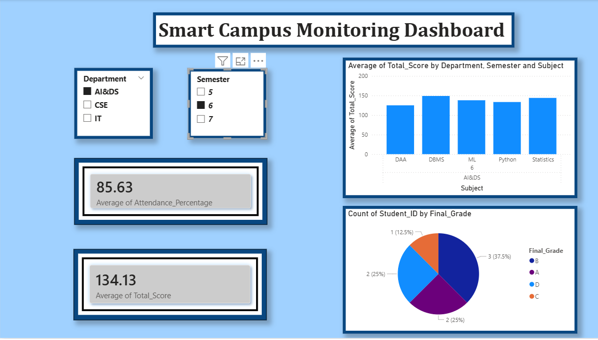

This screenshot's page, from the dashboard's own definition file:
{"tool":"powerbi","page":{"name":"Page 1","canvas":[1280,720],"ordinal":0},"visuals":[{"type":"textbox","box":[325.2,27.4,768.4,75.5],"z":0},{"type":"cardVisual","fields":{"Data":["Avg(5 student_performance.Attendance_Percentage)"]},"box":[157.8,337.6,410.3,141.3],"z":1000},{"type":"cardVisual","fields":{"Data":["Avg(5 student_performance.Total_Score)"]},"box":[156.4,531,410.3,150.9],"z":2000},{"type":"slicer","fields":{"Values":["5 student_performance.Department"]},"box":[157.8,145.5,167.4,150.9],"z":3000},{"type":"slicer","fields":{"Values":["5 student_performance.Semester"]},"box":[399.3,146.8,167.4,149.6],"z":4000},{"type":"clusteredColumnChart","fields":{"Y":["Avg(5 student_performance.Total_Score)"],"Category":["5 student_performance.Department","5 student_performance.Semester","5 student_performance.Subject"]},"box":[728.6,123.5,499.5,299.1],"z":5000},{"type":"pieChart","fields":{"Category":["5 student_performance.Final_Grade"],"Y":["CountNonNull(5 student_performance.Student_ID)"]},"box":[728.6,439.1,499.5,271.7],"z":6000}]}

Visuals, with their boxes in screenshot pixels (x1, y1, x2, y2), scaled from the page's 1280x720 canvas onto the 598x340 screenshot:
textbox: select_region(152, 13, 511, 49)
cardVisual - Avg(5 student_performance.Attendance_Percentage): select_region(74, 159, 265, 226)
cardVisual - Avg(5 student_performance.Total_Score): select_region(73, 251, 265, 322)
slicer - 5 student_performance.Department: select_region(74, 69, 152, 140)
slicer - 5 student_performance.Semester: select_region(187, 69, 265, 140)
clusteredColumnChart - Avg(5 student_performance.Total_Score) x 5 student_performance.Department: select_region(340, 58, 574, 200)
pieChart - 5 student_performance.Final_Grade x CountNonNull(5 student_performance.Student_ID): select_region(340, 207, 574, 336)
